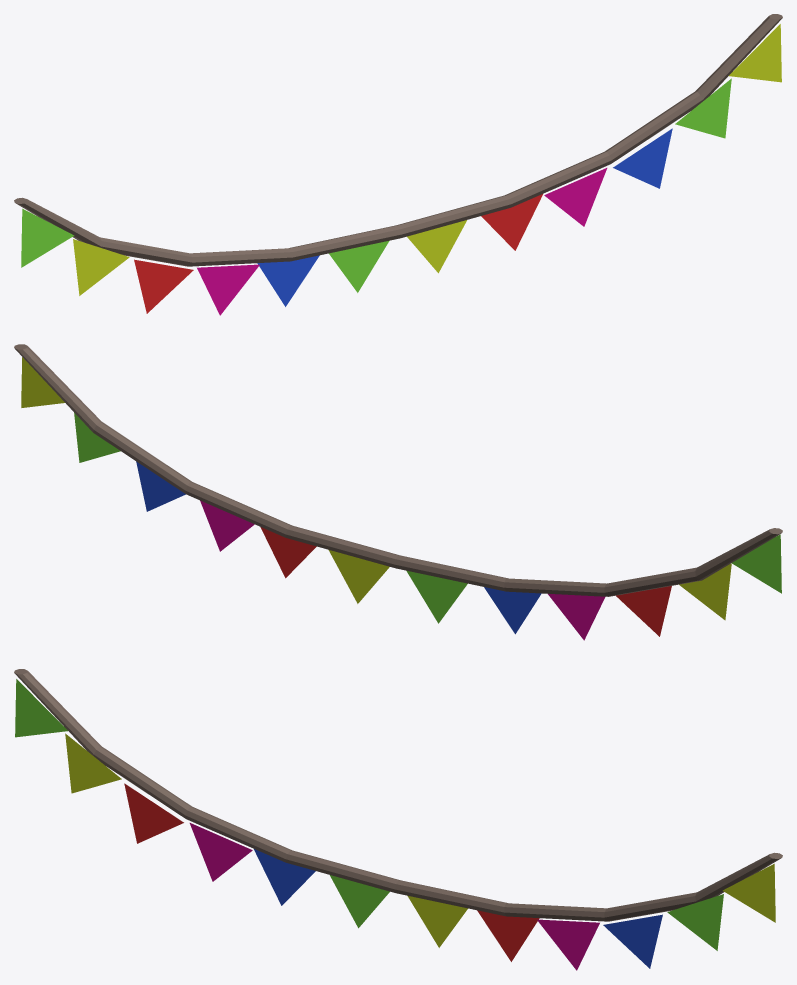
Rendered from Party_rope.fbx.
The picture shows the model from 3 angles, top to bottom: view 1: azimuth 30°, elevation 25°; view 2: azimuth 150°, elevation 25°; view 3: azimuth 330°, elevation 25°; orthographic projection.
Visible parts, largest first — view 1: Party Rope; view 2: Party Rope; view 3: Party Rope.
Part boxes in pixels (bbox=[...]): Party Rope: bbox=[14, 14, 782, 315]; Party Rope: bbox=[14, 344, 782, 640]; Party Rope: bbox=[14, 669, 782, 970].
Size of the model in its own units: 929 by 202 by 17.74.
